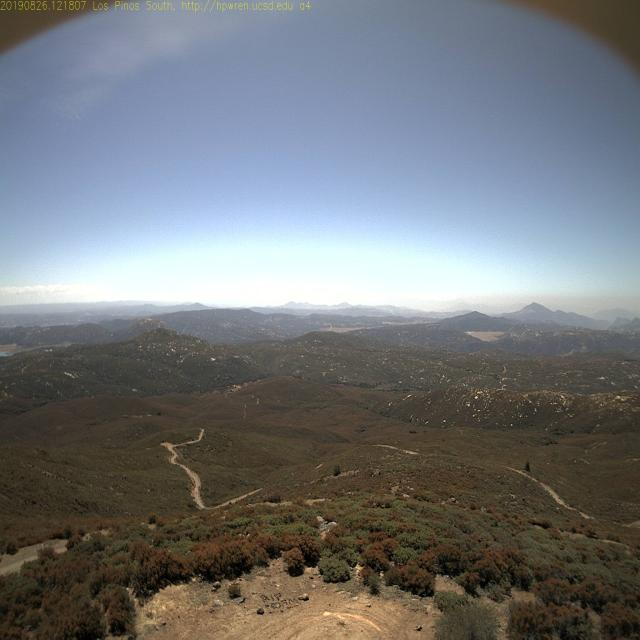smoke: (384, 305, 398, 317)
